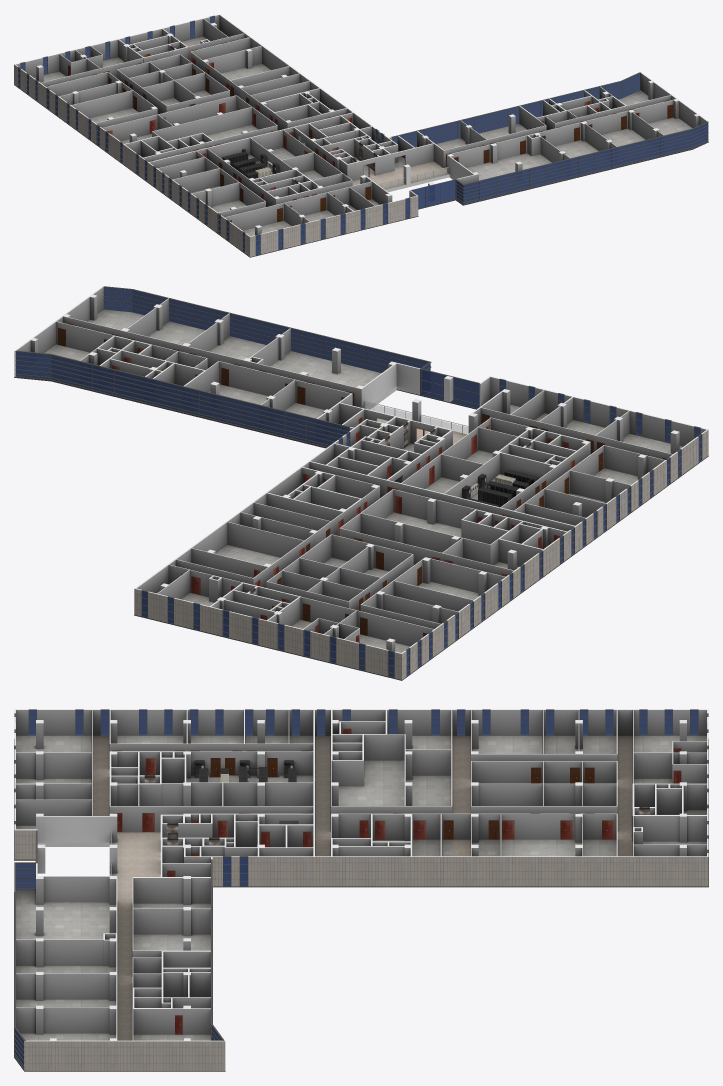
The model's file is NanJingNanBuilding_2F.gltf.
3 renders of one model, top to bottom at view 1: azimuth 30°, elevation 25°; view 2: azimuth 150°, elevation 25°; view 3: azimuth 270°, elevation 25°, orthographic. The views are drawn at different scales.
Visible parts, largest first — view 1: 2FWall, 2FWall002, 2FGlass, 2F_Outside, 2FRoom, 2-4F, 2FTieJia, 2FZhuzi, 2FWall (1), 2FWindows, 2FDMDoor, 2FCorridor (+3 smaller); view 2: 2FWall, 2FGlass, 2FWall002, 2F_Outside, 2FRoom, 2FZhuzi, 2-4F, 2FTieJia, 2FWall (1), 2FWindows, 2FDMDoor, 2FDoubleDoor (+3 smaller); view 3: 2FWall, 2FWall002, 2FRoom, 2F_Outside, 2-4F, 2FCorridor, 2FZhuzi, 2FGlass, 2FWall (1), 2FWindows, 2FDoubleDoor, 2FFloor (+6 smaller).
Boxes of the visible parts, left/top/right/bottom form: 2FWall: left=41, top=18, right=389, bottom=230; 2FWall002: left=312, top=86, right=676, bottom=184; 2FGlass: left=18, top=16, right=707, bottom=255; 2F_Outside: left=14, top=64, right=418, bottom=256; 2FRoom: left=34, top=36, right=692, bottom=236; 2-4F: left=14, top=14, right=708, bottom=236; 2FTieJia: left=391, top=72, right=708, bottom=204; 2FZhuzi: left=36, top=22, right=699, bottom=235; 2FWall (1): left=43, top=37, right=673, bottom=220; 2FWindows: left=17, top=15, right=456, bottom=255; 2FDMDoor: left=46, top=63, right=673, bottom=222; 2FCorridor: left=352, top=161, right=448, bottom=189; 2FWall: left=157, top=390, right=672, bottom=646; 2FGlass: left=16, top=287, right=701, bottom=677; 2FWall002: left=56, top=298, right=452, bottom=482; 2F_Outside: left=134, top=427, right=708, bottom=679; 2FRoom: left=44, top=309, right=682, bottom=652; 2FZhuzi: left=30, top=294, right=679, bottom=651; 2-4F: left=14, top=286, right=708, bottom=653; 2FTieJia: left=15, top=286, right=431, bottom=447; 2FWall (1): left=58, top=317, right=670, bottom=633; 2FWindows: left=141, top=368, right=702, bottom=678; 2FDMDoor: left=58, top=323, right=666, bottom=636; 2FDoubleDoor: left=112, top=347, right=574, bottom=608; 2FWall: left=16, top=710, right=706, bottom=856; 2FWall002: left=16, top=813, right=259, bottom=1040; 2FRoom: left=16, top=735, right=706, bottom=1040; 2F_Outside: left=14, top=830, right=708, bottom=1070; 2-4F: left=14, top=709, right=708, bottom=1070; 2FCorridor: left=92, top=735, right=632, bottom=1040; 2FZhuzi: left=36, top=720, right=686, bottom=1041; 2FGlass: left=15, top=710, right=698, bottom=1067; 2FWall (1): left=92, top=711, right=656, bottom=1039; 2FWindows: left=14, top=709, right=708, bottom=886; 2FDoubleDoor: left=112, top=758, right=614, bottom=839; 2FFloor: left=14, top=739, right=708, bottom=1071.
Size of the model in its own units: 7418 by 315 by 6557.
Materials: 96 (90 with a texture image).
